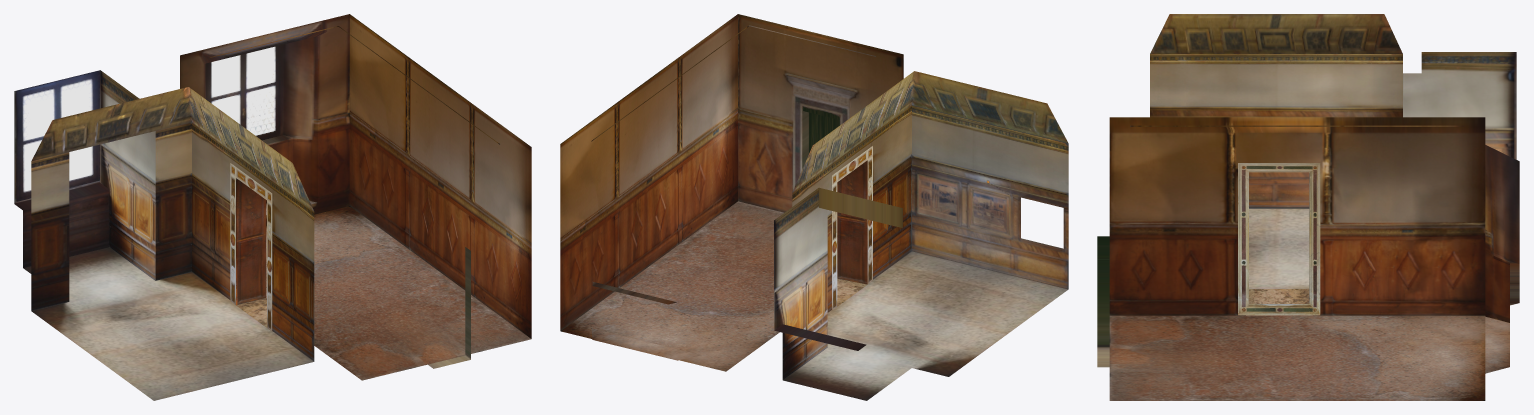
File: muri.glb
3 views of the same model, side by side, from view 1: azimuth 30°, elevation 25°; view 2: azimuth 150°, elevation 25°; view 3: azimuth 270°, elevation 25° (orthographic). The views are drawn at different scales.
Parts seen in each view (by area): view 1: room_studiolo, room_grotta, room_porta; view 2: room_studiolo, room_grotta, room_porta; view 3: room_studiolo, room_grotta, room_porta.
Part boxes in pixels (x1=…): room_studiolo: x1=180, y1=14, x2=531, y2=380; room_grotta: x1=14, y1=70, x2=314, y2=400; room_porta: x1=230, y1=163, x2=272, y2=331; room_studiolo: x1=560, y1=14, x2=903, y2=371; room_grotta: x1=774, y1=71, x2=1068, y2=400; room_porta: x1=832, y1=146, x2=872, y2=310; room_studiolo: x1=1097, y1=117, x2=1519, y2=400; room_grotta: x1=1150, y1=14, x2=1516, y2=288; room_porta: x1=1238, y1=163, x2=1320, y2=315.
Bounding box in the file's own units: 7.39 × 4.06 × 7.3.
Materials: 3 (3 with a texture image).
